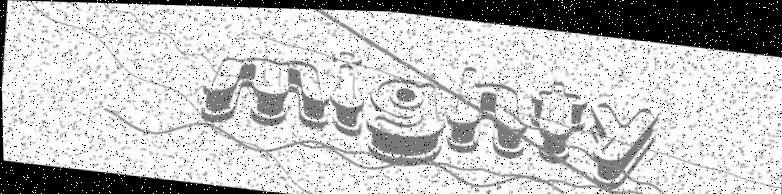g: (361, 66, 449, 168)
h: (436, 57, 537, 168)
i: (321, 45, 370, 144)
m: (197, 43, 335, 133)
t: (528, 73, 590, 161)
y: (579, 94, 665, 189)
